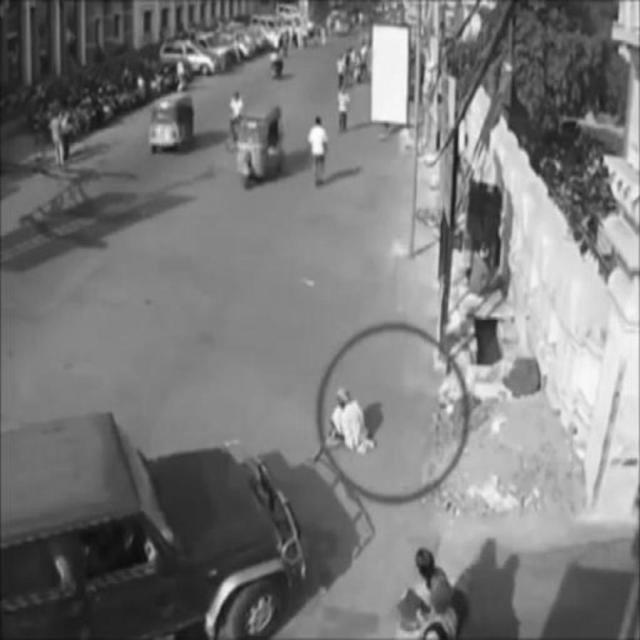person: (328, 386, 374, 457), (310, 116, 330, 190), (335, 83, 352, 135)
vehicle: (2, 414, 306, 636), (239, 107, 277, 190), (161, 34, 219, 78), (151, 97, 192, 154)
